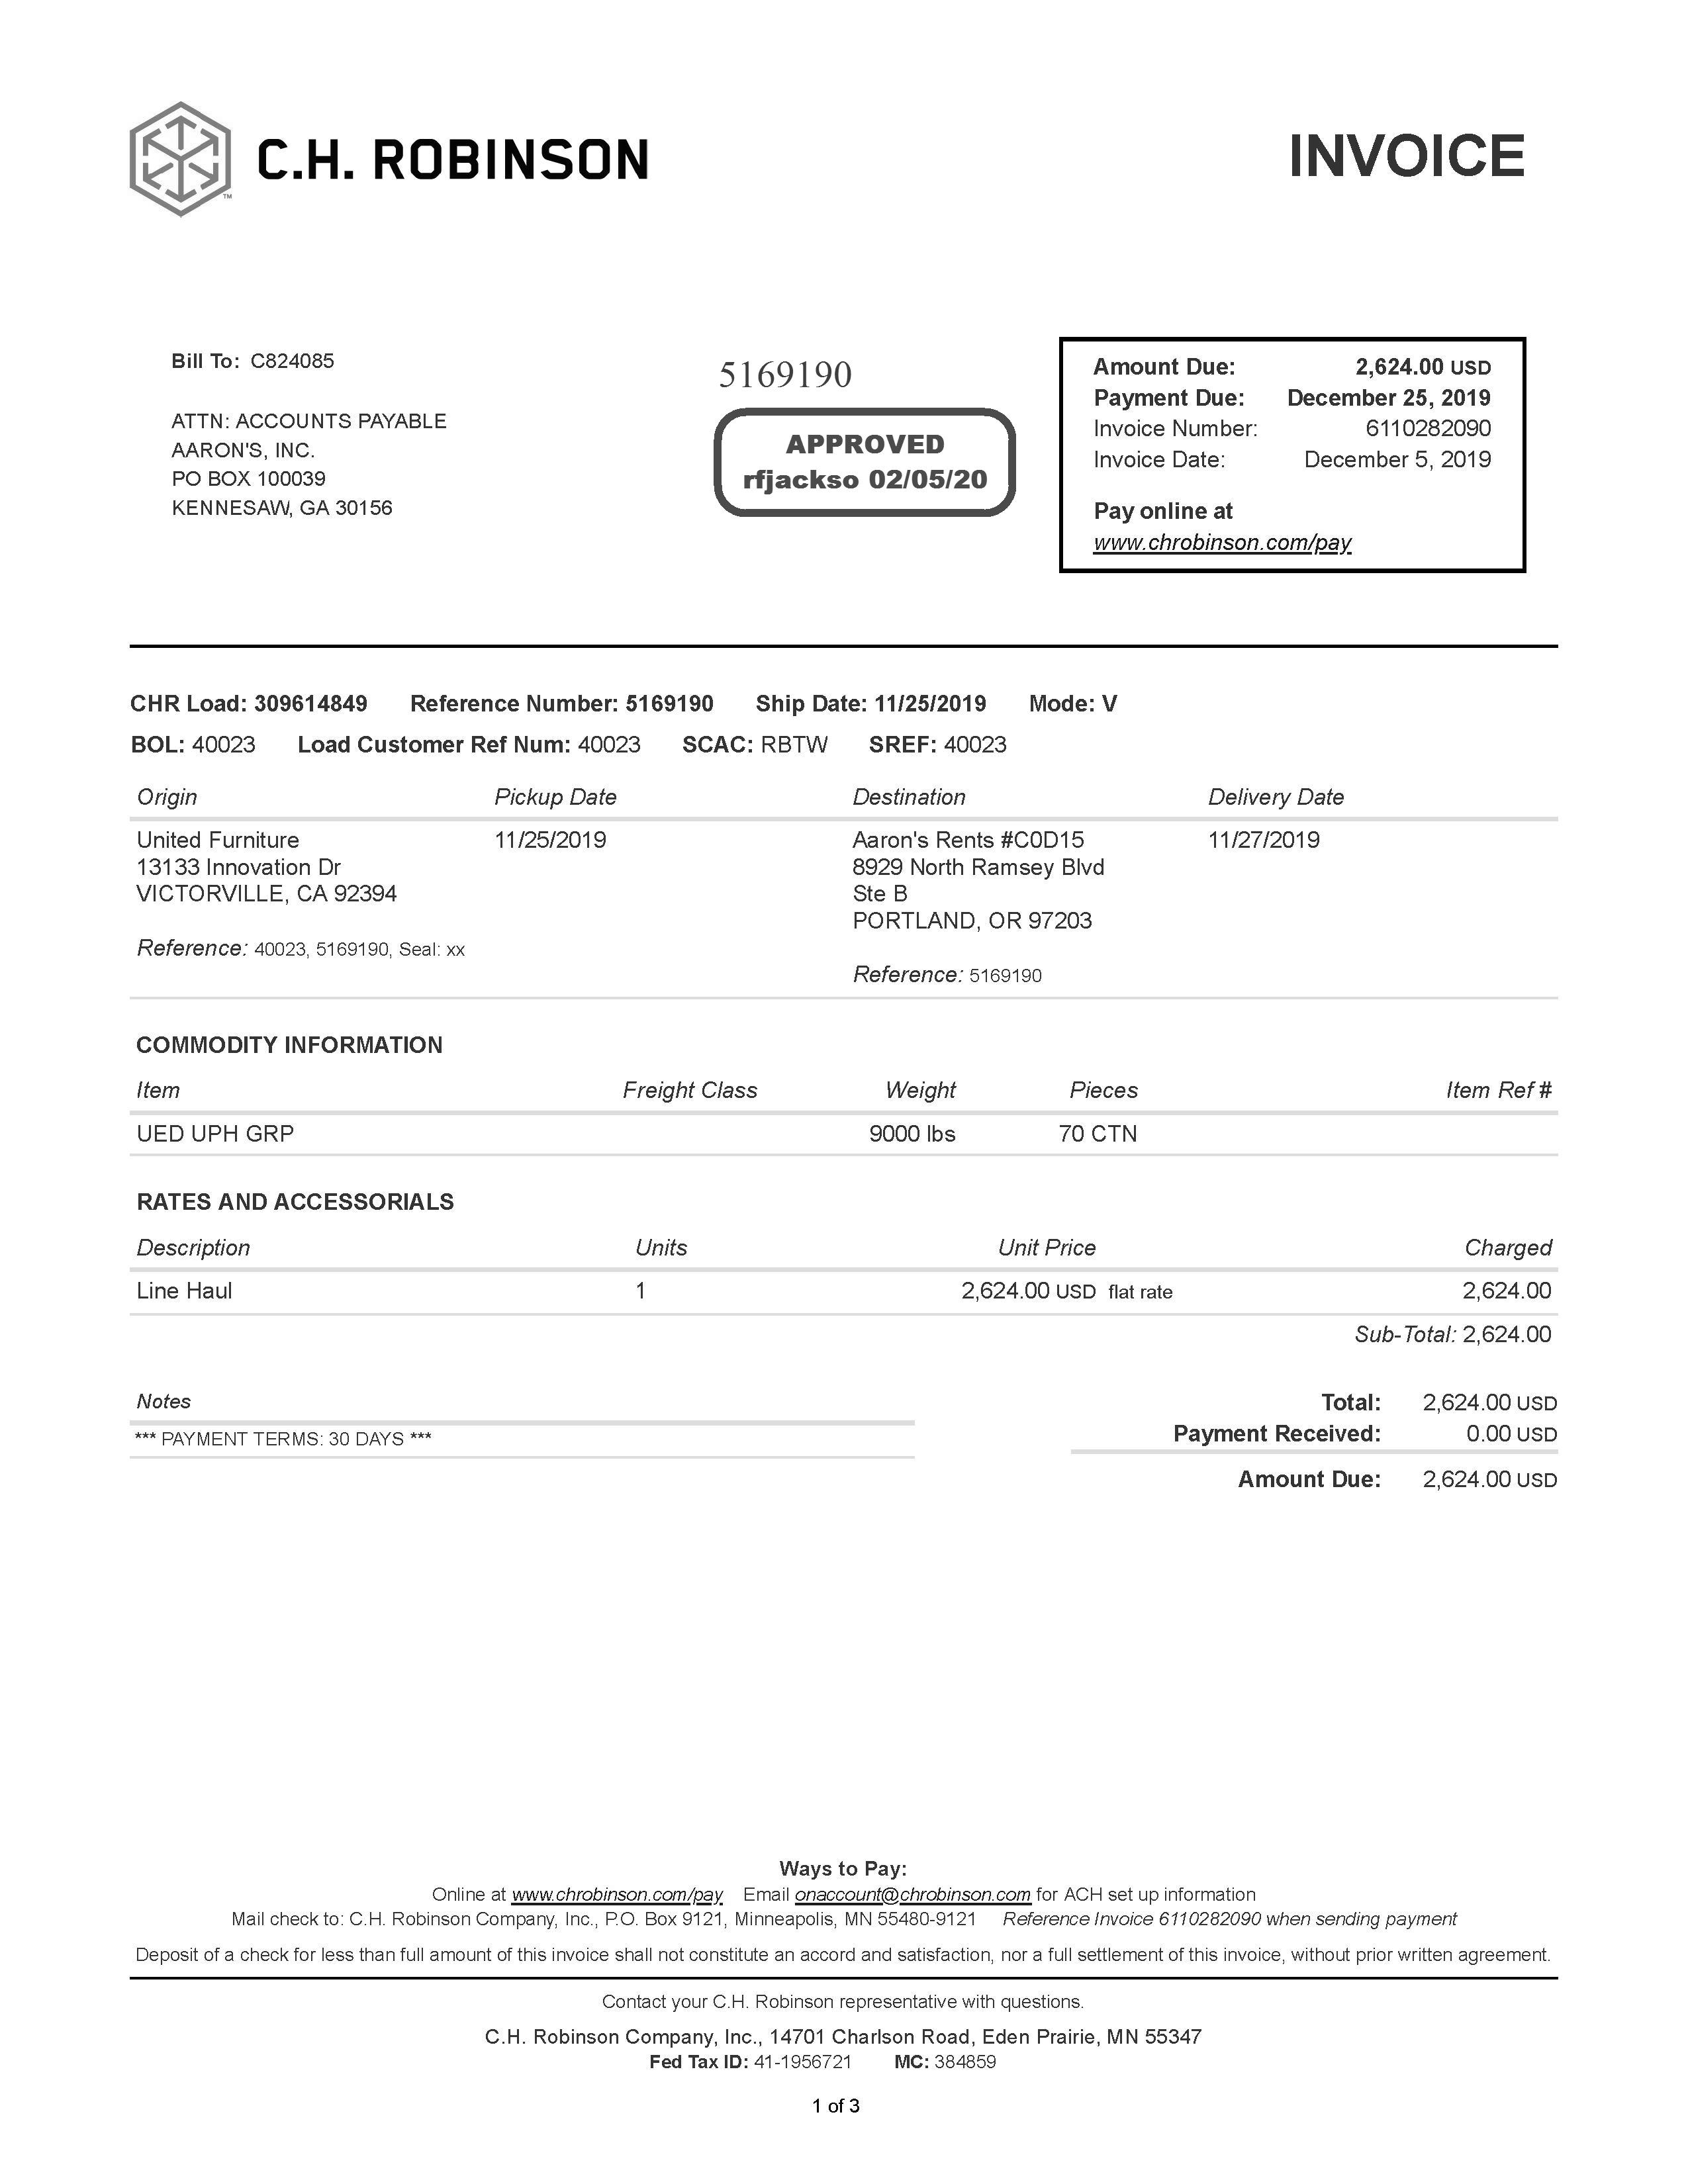B_Paragraph: (137, 1883, 1557, 1971), (1080, 342, 1504, 558), (475, 1987, 1209, 2095), (131, 688, 1122, 762), (161, 346, 457, 539), (1160, 1374, 1571, 1503), (826, 775, 1121, 948), (135, 780, 408, 916), (1344, 1218, 1555, 1347), (949, 1220, 1181, 1322), (736, 424, 998, 500), (129, 1076, 335, 1152), (135, 932, 473, 979), (1179, 778, 1358, 856), (840, 1067, 972, 1154), (484, 780, 631, 856), (596, 1220, 706, 1317), (131, 1236, 270, 1310), (152, 1422, 410, 1461), (1053, 1067, 1147, 1158), (853, 954, 1051, 991), (601, 1071, 773, 1113), (1413, 1065, 1560, 1111), (715, 353, 860, 399), (794, 2086, 876, 2129), (128, 1388, 200, 1416)
B_SubTitle: (137, 1025, 452, 1065), (135, 1188, 470, 1225), (777, 1838, 918, 1888)
B_Title: (252, 110, 661, 204), (1275, 121, 1536, 190)
